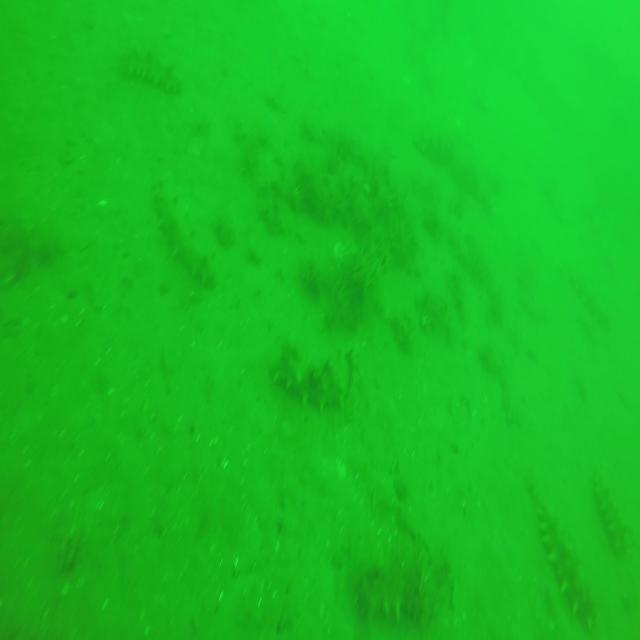holothurian: (522, 490, 592, 628), (409, 119, 499, 208), (147, 178, 214, 294), (356, 550, 446, 631), (270, 349, 353, 410), (111, 43, 182, 97), (592, 484, 635, 564), (565, 270, 612, 326)
